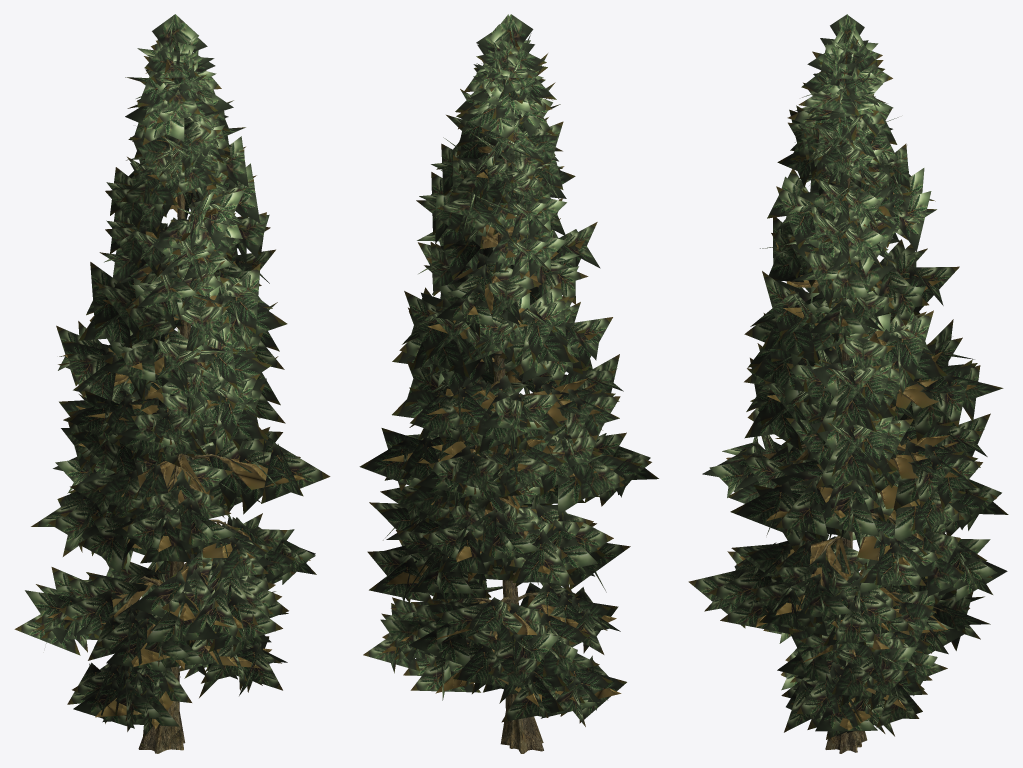
The model's file is PineMed3.fbx.
3 renders of one model, left to right at view 1: azimuth 30°, elevation 25°; view 2: azimuth 150°, elevation 25°; view 3: azimuth 270°, elevation 25°, orthographic.
Visible parts, largest first — view 1: PineMed3_LOD0; view 2: PineMed3_LOD0; view 3: PineMed3_LOD0.
Part boxes in pixels (<box>): PineMed3_LOD0: <box>14,14,330,753</box>; PineMed3_LOD0: <box>359,14,658,753</box>; PineMed3_LOD0: <box>688,14,1008,753</box>.
Size of what is drawn, in the model's own units: 9.63 by 29.33 by 11.57.
